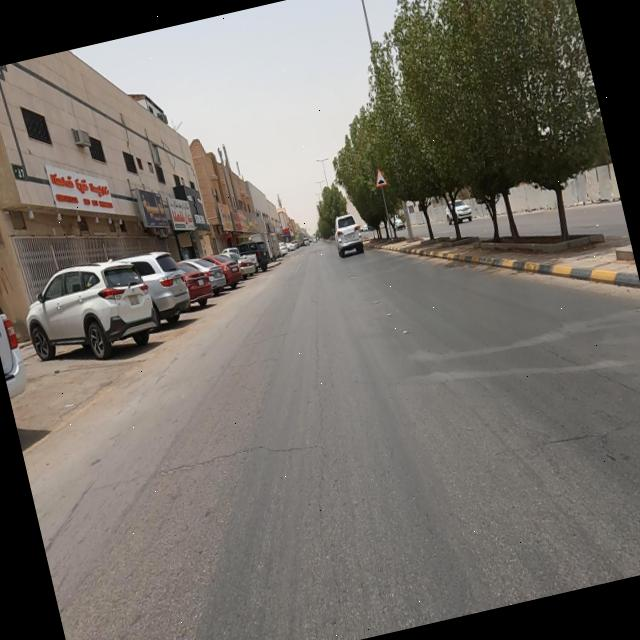Graffiti: (0, 263, 15, 300)
